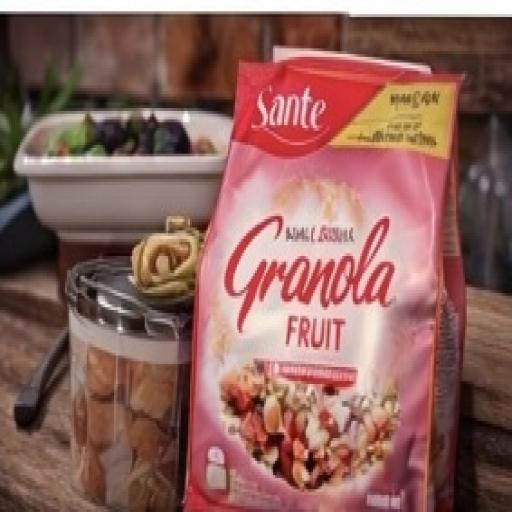granola: (187, 46, 479, 512)
